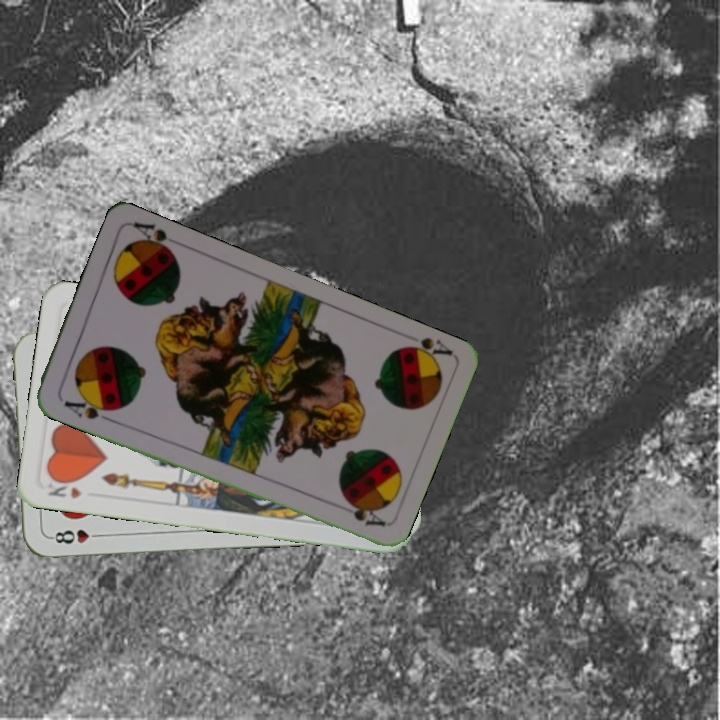H8: (46, 525, 105, 546)
HK: (44, 474, 84, 501)
SA: (393, 333, 455, 367), (59, 392, 117, 424)
